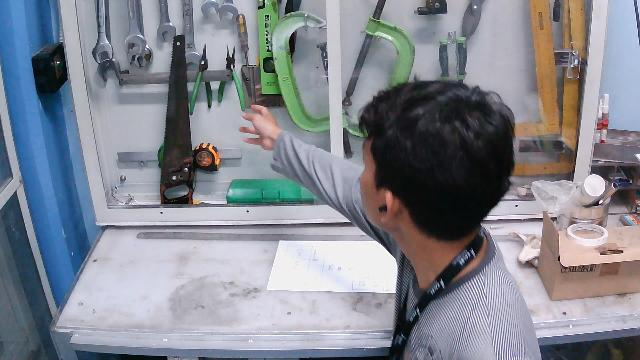tang_cucut_lancip_1: (215, 41, 249, 114)
